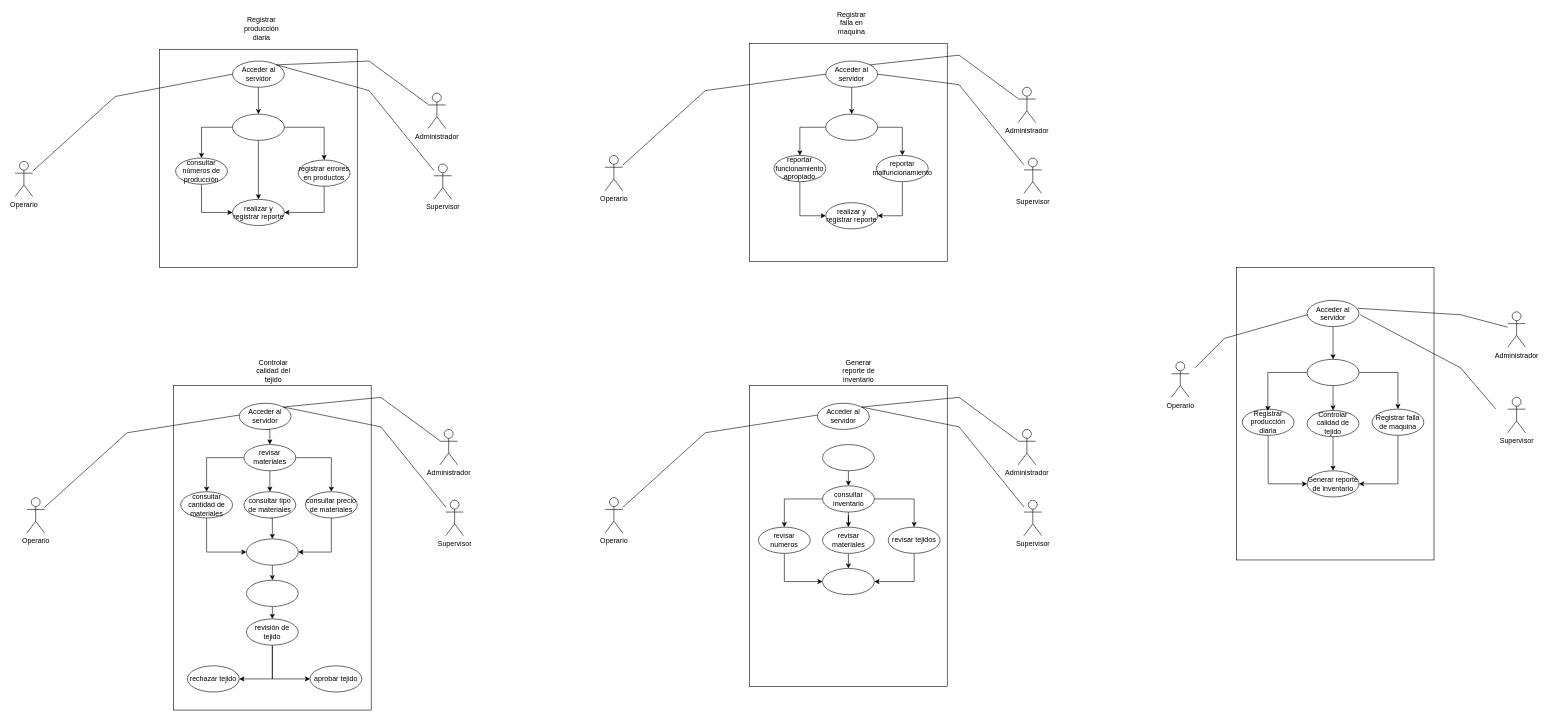
This 1549x720 diagram has some shape labels left out. Here are the shapes that lost their labels. From the top down, the centre of each, then its label:
(x=258, y=127): revisar produccion
(x=851, y=127): usar maquina
(x=1333, y=372): consultar sectores
(x=848, y=457): acceder a inventario
(x=272, y=551): inspección previa
(x=272, y=593): producir tejido
(x=848, y=581): realizar reporte
